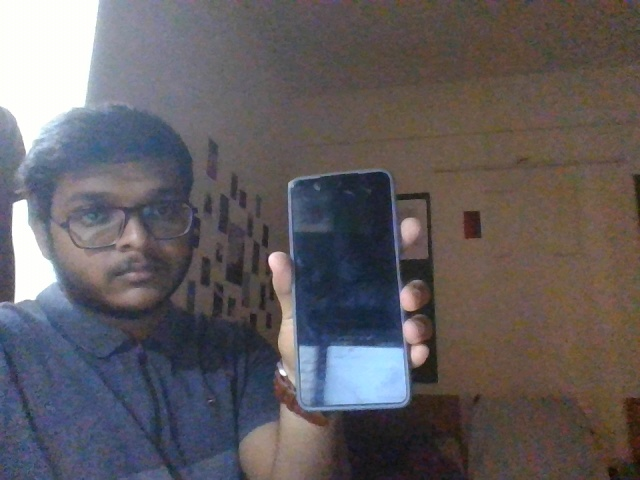Phone: (287, 169, 412, 410)
